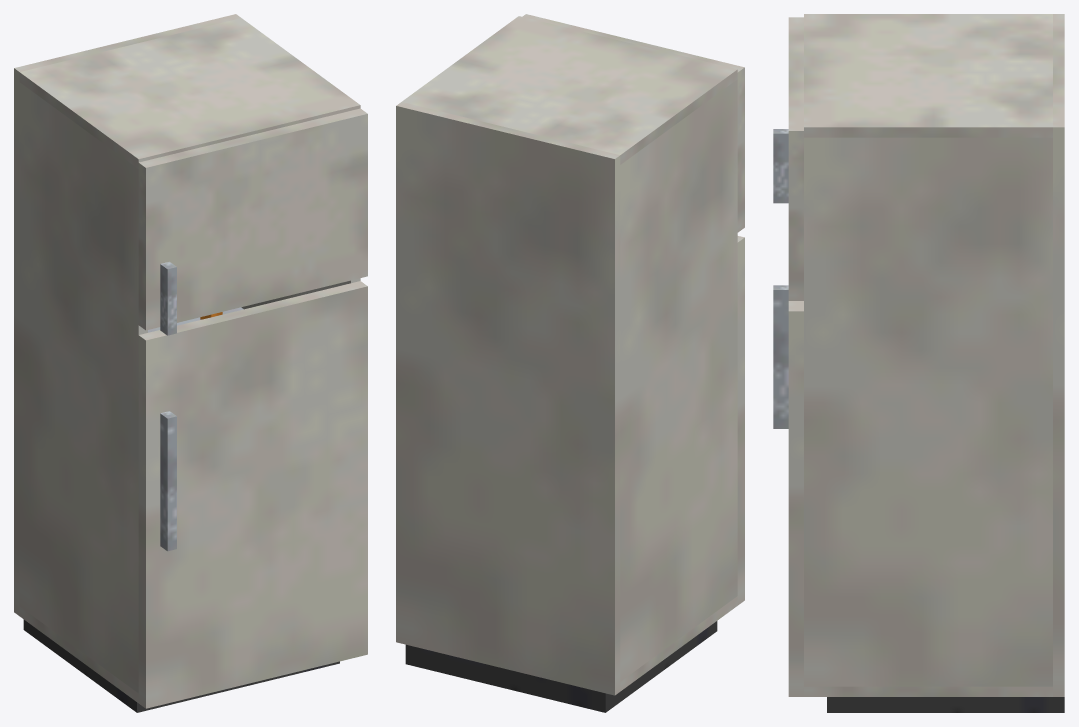
The model's file is fridge_white.obj.
3 views of the same model, side by side, from view 1: azimuth 30°, elevation 25°; view 2: azimuth 150°, elevation 25°; view 3: azimuth 270°, elevation 25° (orthographic). The views are drawn at different scales.
Parts seen in each view (by area): view 1: fridge_white, fridge_white_door; view 2: fridge_white, fridge_white_door; view 3: fridge_white, fridge_white_door.
Part boxes in pixels (x1,y1,x2,y2): fridge_white: [14, 14, 367, 712]; fridge_white_door: [138, 281, 367, 708]; fridge_white: [396, 14, 744, 712]; fridge_white_door: [737, 236, 744, 605]; fridge_white: [773, 14, 1064, 712]; fridge_white_door: [773, 285, 803, 696].
Bounding box in the file's own units: 0.7 × 1.7 × 0.76.
Materials: 1 (1 with a texture image).
